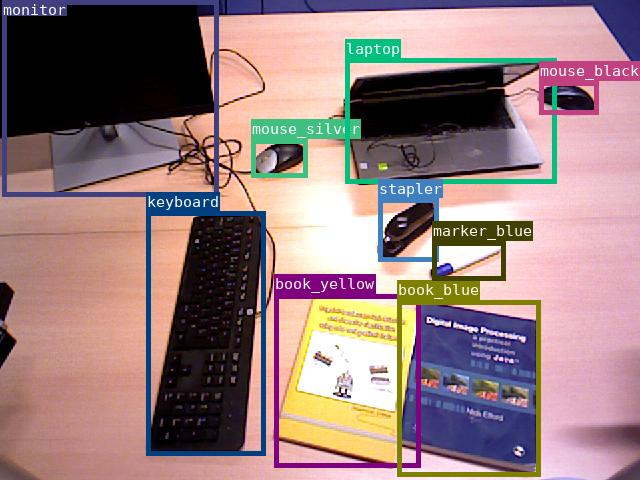book_blue: (397, 300, 540, 476)
book_yellow: (274, 294, 420, 467)
keyboard: (146, 211, 265, 455)
laptop: (345, 58, 556, 183)
marker_blue: (432, 241, 505, 280)
monitor: (2, 0, 218, 196)
mouse_black: (539, 81, 598, 114)
mouse_silver: (251, 139, 307, 177)
stapler: (378, 198, 438, 261)
